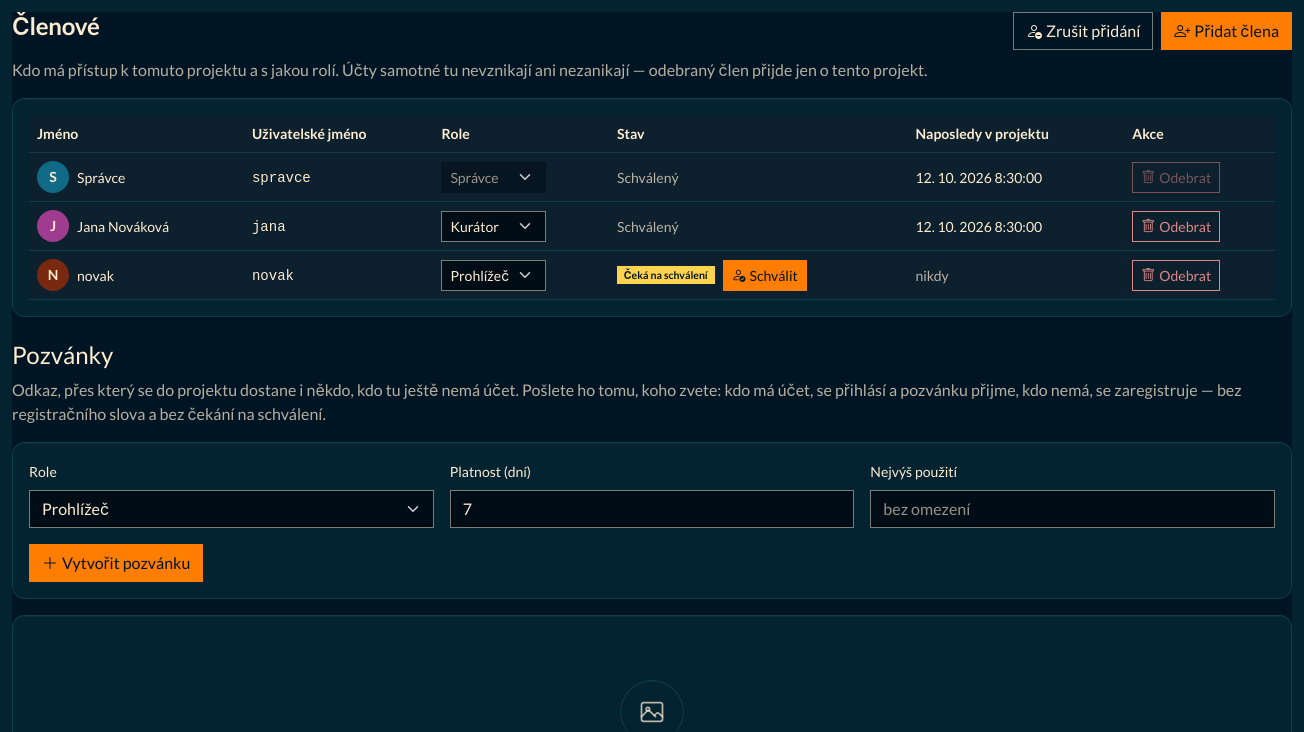
it: MembersPage › approves a waiting membership
The width and height of the screenshot is (1304, 732).
Click the button "Schválit": (765, 275) [722,260,807,290]
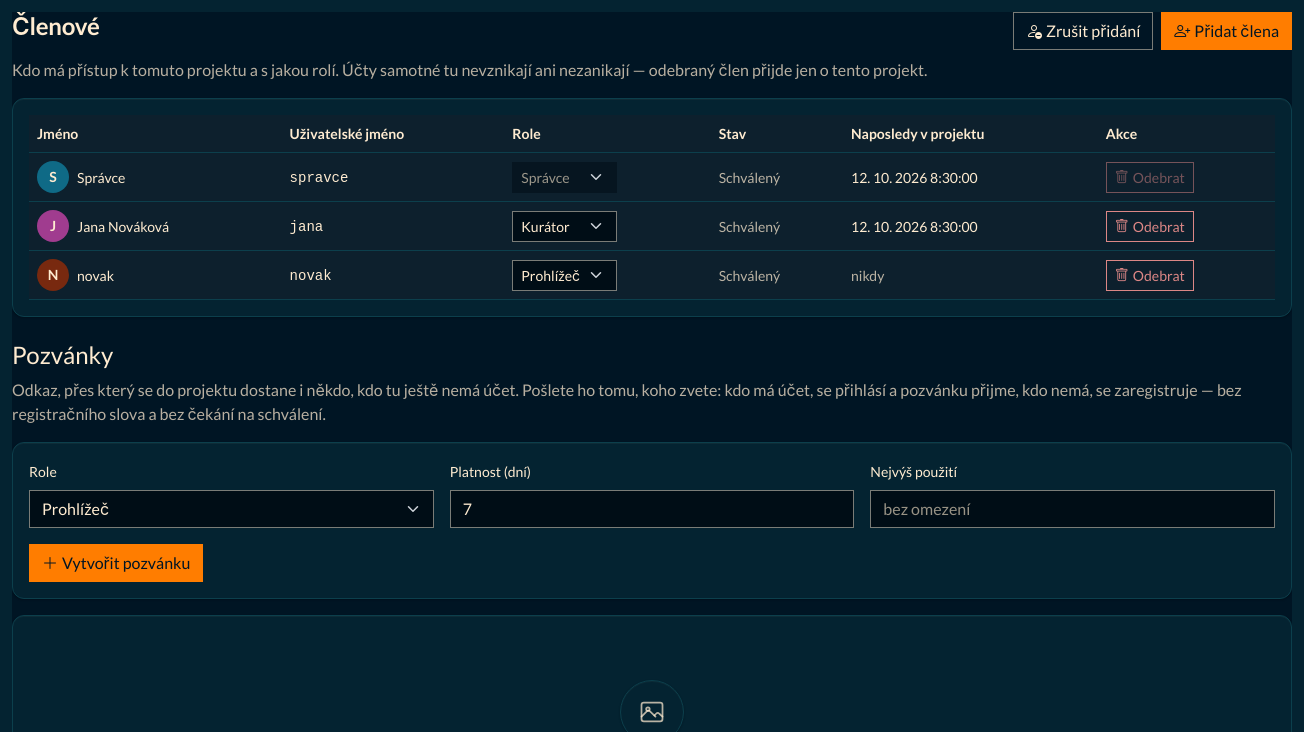
Now the text "Čeká na schválení" is gone
